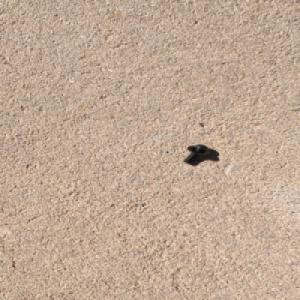BoltWasher: (182, 143, 211, 164)
